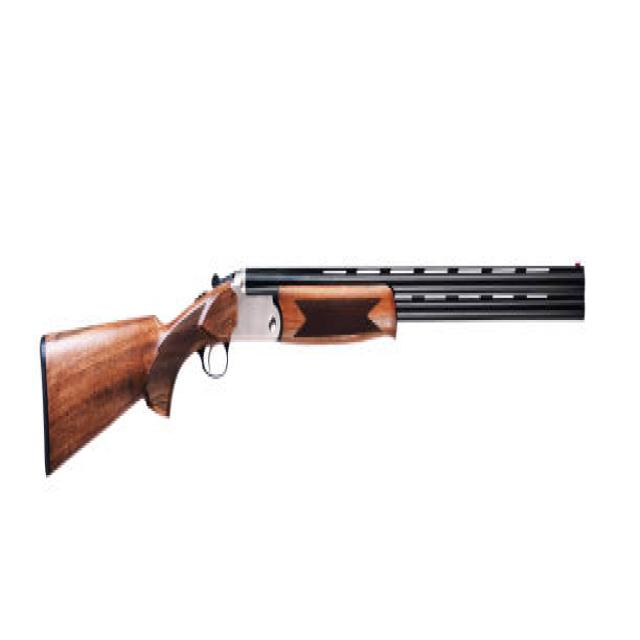rifle: (35, 253, 596, 498)
